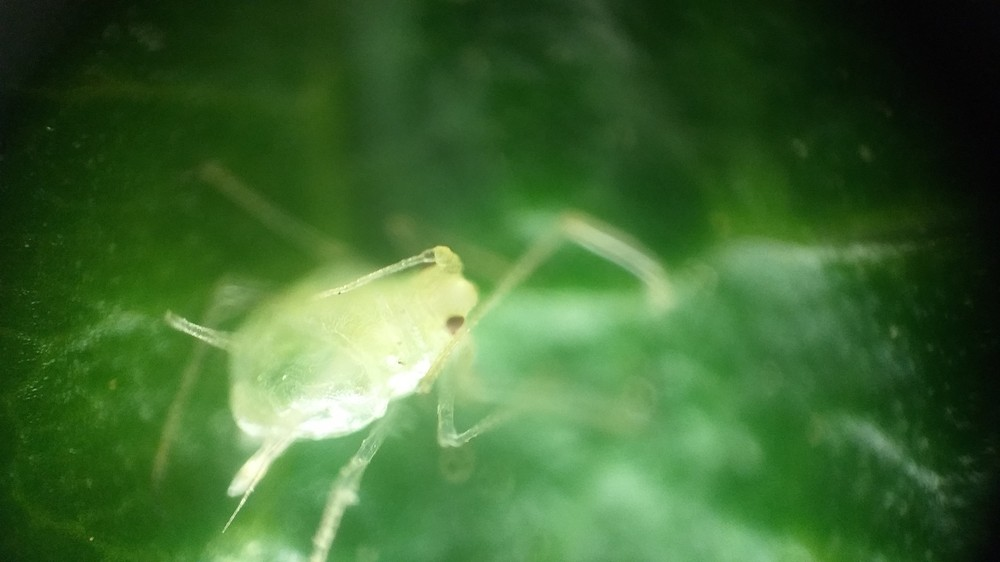Pulgon: (149, 174, 672, 508)
